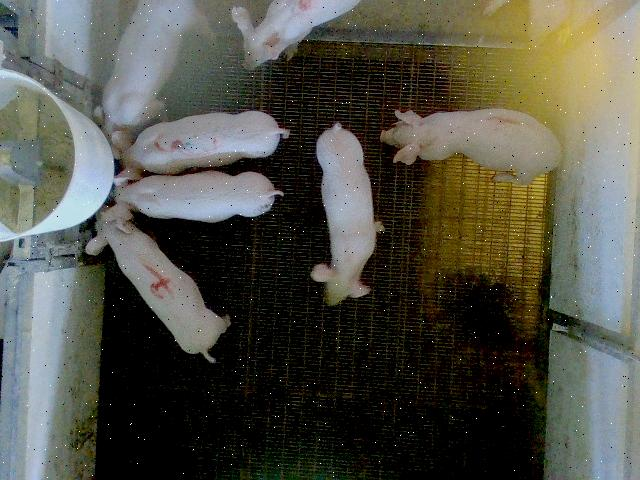pig-1: (380, 109, 562, 185)
pig-3: (111, 112, 289, 185)
pig-4: (86, 222, 230, 362)
